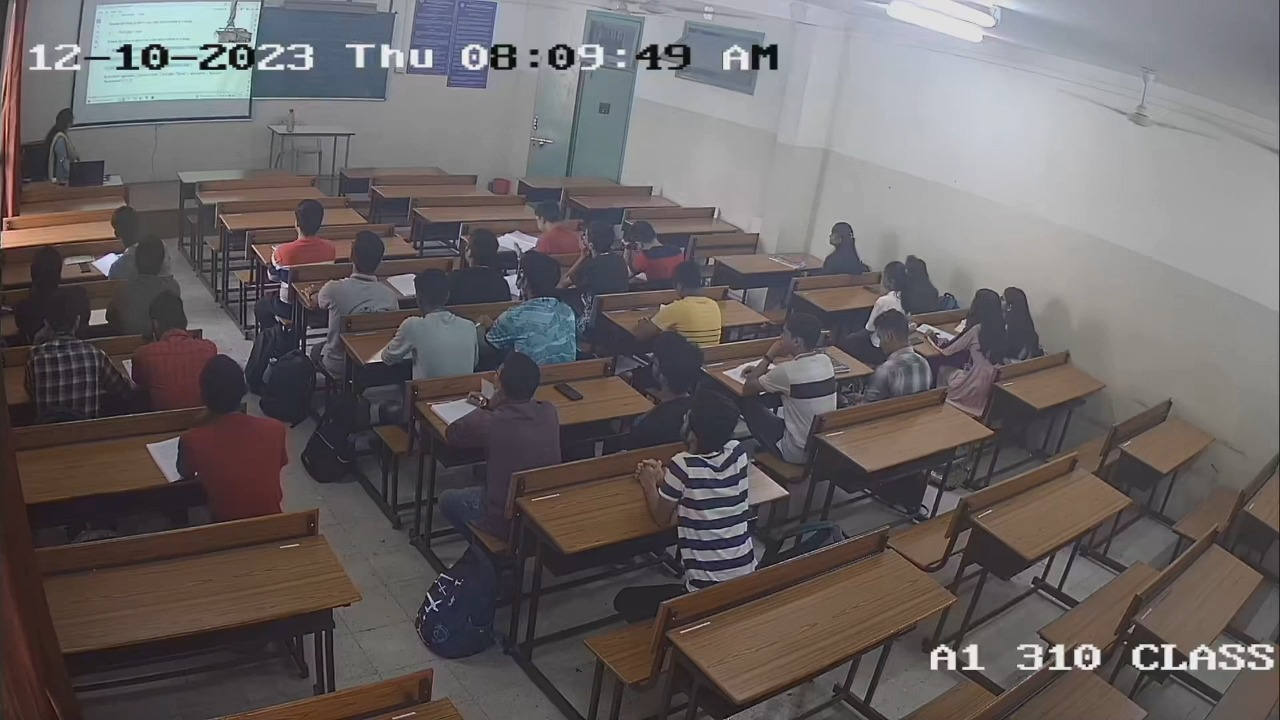cell-phones: (552, 381, 585, 403), (907, 337, 925, 346)
person: (626, 330, 720, 444), (944, 287, 1010, 383)
